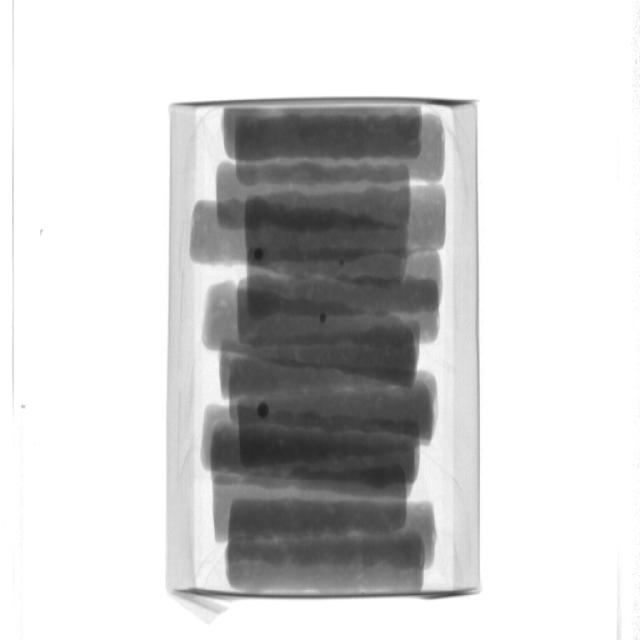ym: (258, 403, 270, 420), (254, 248, 265, 261), (319, 314, 328, 324), (341, 259, 347, 265)
